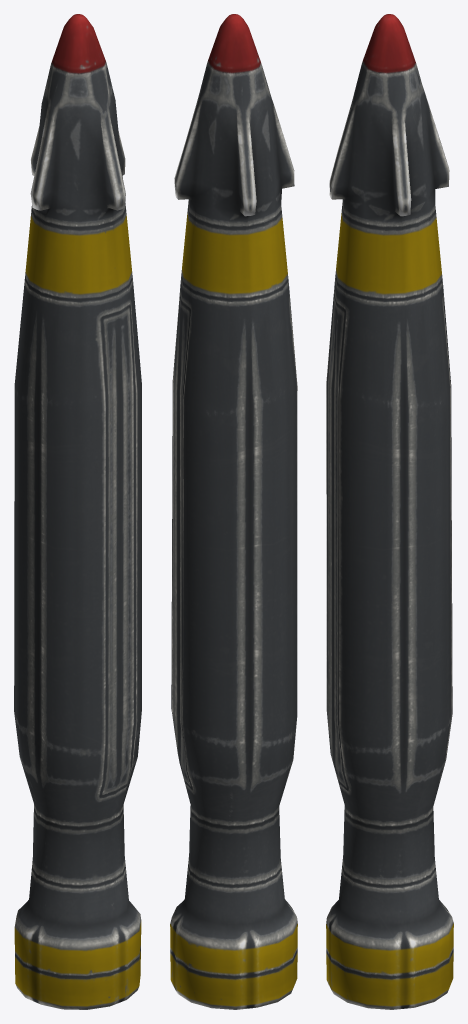
3 renders of one model, left to right at view 1: azimuth 90°, elevation 25°; view 2: azimuth 150°, elevation 25°; view 3: azimuth 330°, elevation 25°, orthographic.
Parts seen in each view (by area): view 1: Anti_Air_System_Rocket.001; view 2: Anti_Air_System_Rocket.001; view 3: Anti_Air_System_Rocket.001.
Boxes of the visible parts, <box> form: Anti_Air_System_Rocket.001: <box>14,14,141,1009</box>; Anti_Air_System_Rocket.001: <box>170,14,297,1009</box>; Anti_Air_System_Rocket.001: <box>326,14,453,1009</box>.
Size of the model in its own units: 1.36 by 11.44 by 1.36.
Materials: 1 (1 with a texture image).
